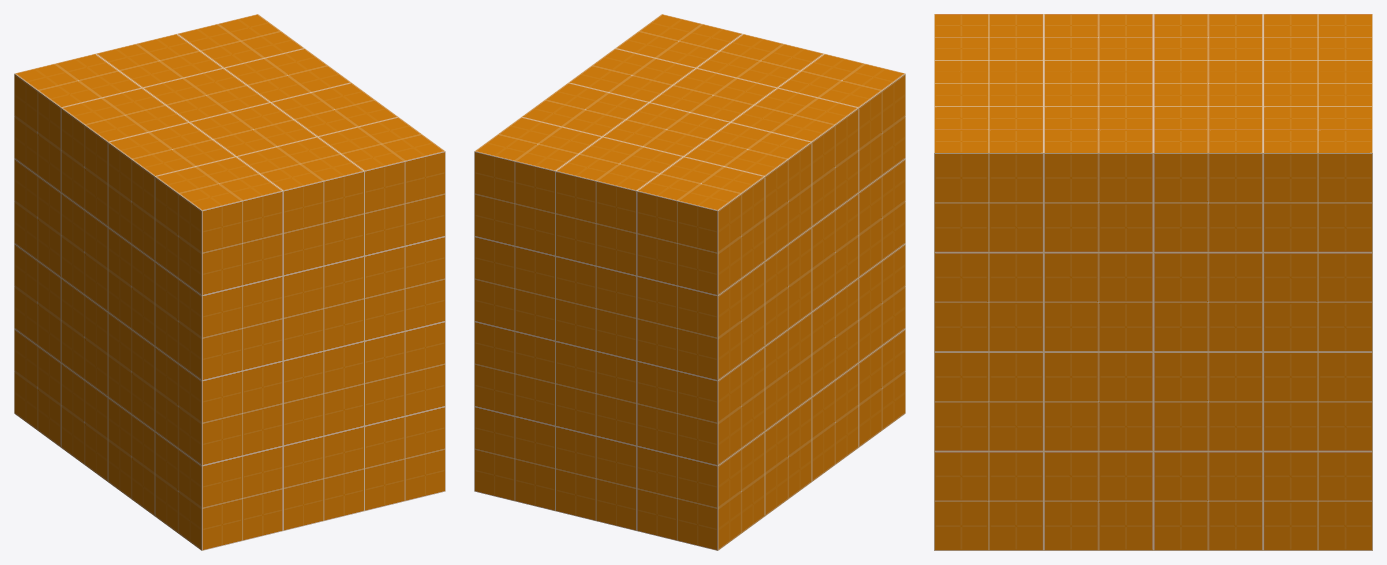
File: Block_3x4x4.obj
The picture shows the model from 3 angles, left to right: view 1: azimuth 30°, elevation 25°; view 2: azimuth 150°, elevation 25°; view 3: azimuth 270°, elevation 25°; orthographic projection. The views are drawn at different scales.
Parts seen in each view (by area): view 1: Block_3x4x4_Cube.182; view 2: Block_3x4x4_Cube.182; view 3: Block_3x4x4_Cube.182.
Boxes of the visible parts, <box> form: Block_3x4x4_Cube.182: <box>14,14,445,550</box>; Block_3x4x4_Cube.182: <box>474,14,905,550</box>; Block_3x4x4_Cube.182: <box>934,14,1372,550</box>.
Size of the model in its own units: 3 by 4 by 4.
1 material, 1 textured.
